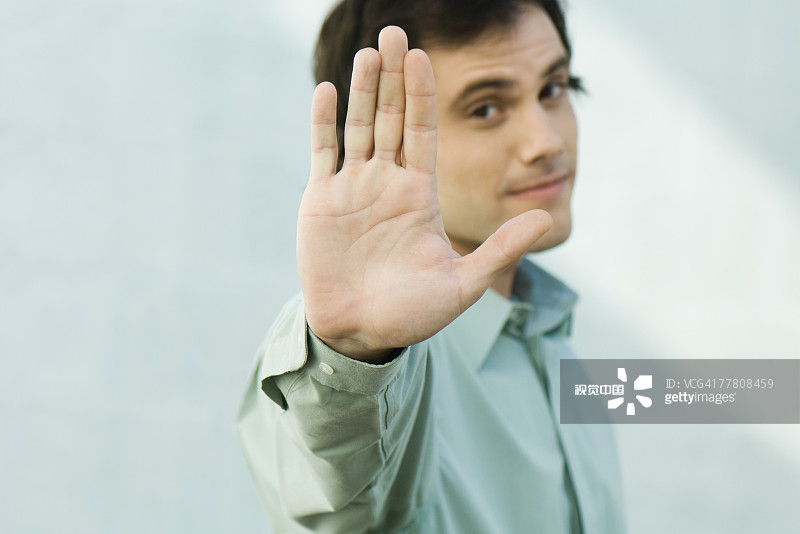no-phone: (287, 12, 562, 370)
